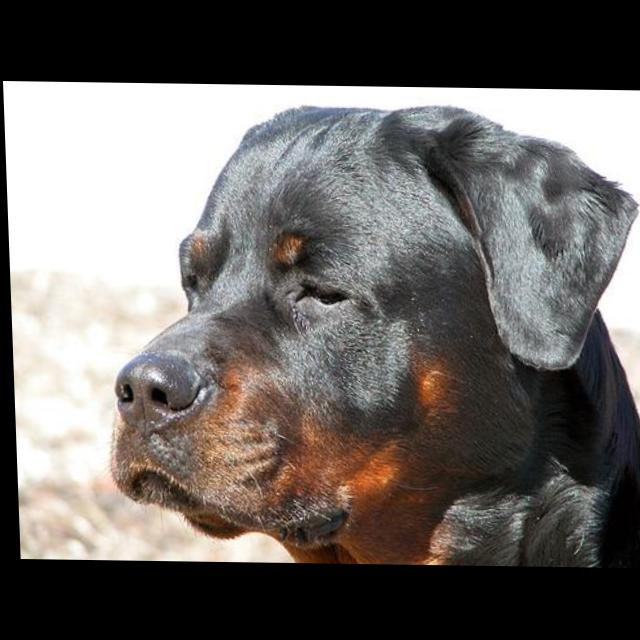rottweiler: (96, 99, 640, 568)
